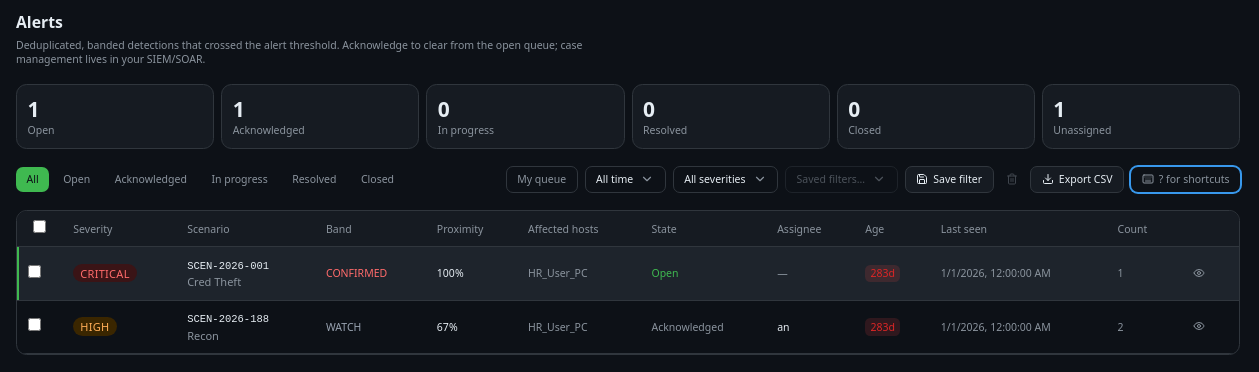
Test: Alerts page › filters to open only via the status tab
This screenshot has width=1259, height=372.
Expected: the text "SCEN-2026-188" is shown, x1=187 y1=313 x2=269 y2=325
Click the tab "Open". click: click(77, 179)
box: x1=53 y1=167 x2=101 y2=192
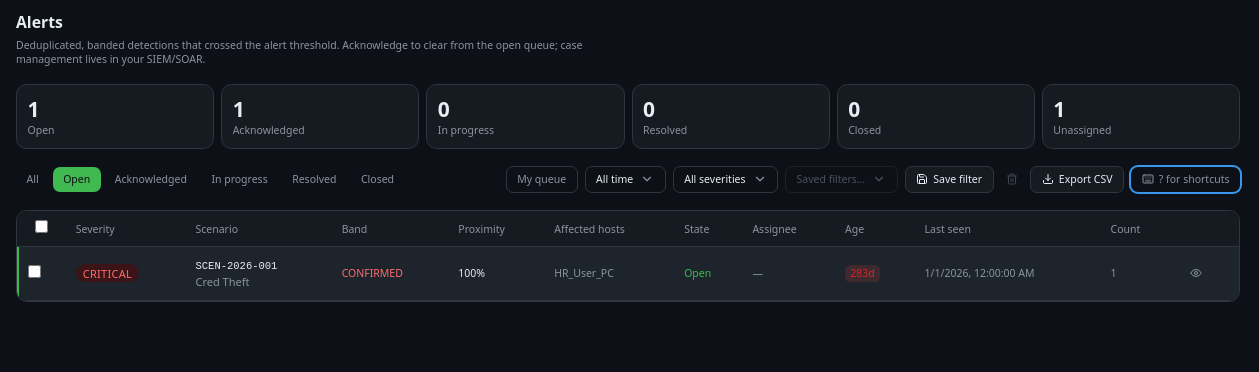
Expected: the text "SCEN-2026-001" is shown, x1=196 y1=260 x2=277 y2=272
Result: the text "SCEN-2026-188" is gone
